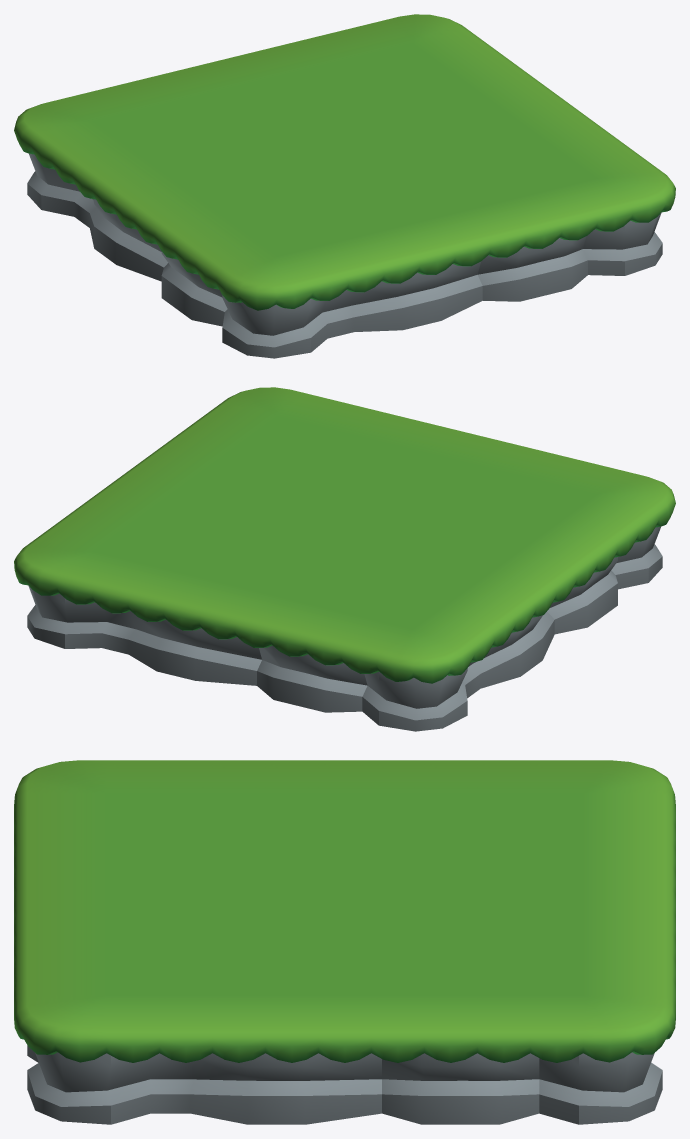
Rendered from Hill_12x12x2_Color1.gltf.
3 renders of one model, top to bottom at view 1: azimuth 30°, elevation 25°; view 2: azimuth 150°, elevation 25°; view 3: azimuth 270°, elevation 25°, orthographic. The views are drawn at different scales.
Parts seen in each view (by area): view 1: Hill_12x12x2_Color1; view 2: Hill_12x12x2_Color1; view 3: Hill_12x12x2_Color1.
Part boxes in pixels (bbox=[...]): Hill_12x12x2_Color1: bbox=[14, 14, 675, 358]; Hill_12x12x2_Color1: bbox=[14, 387, 675, 731]; Hill_12x12x2_Color1: bbox=[14, 760, 675, 1124].
Size of the model in its own units: 12.5 by 2 by 12.5.
1 material, 1 textured.
